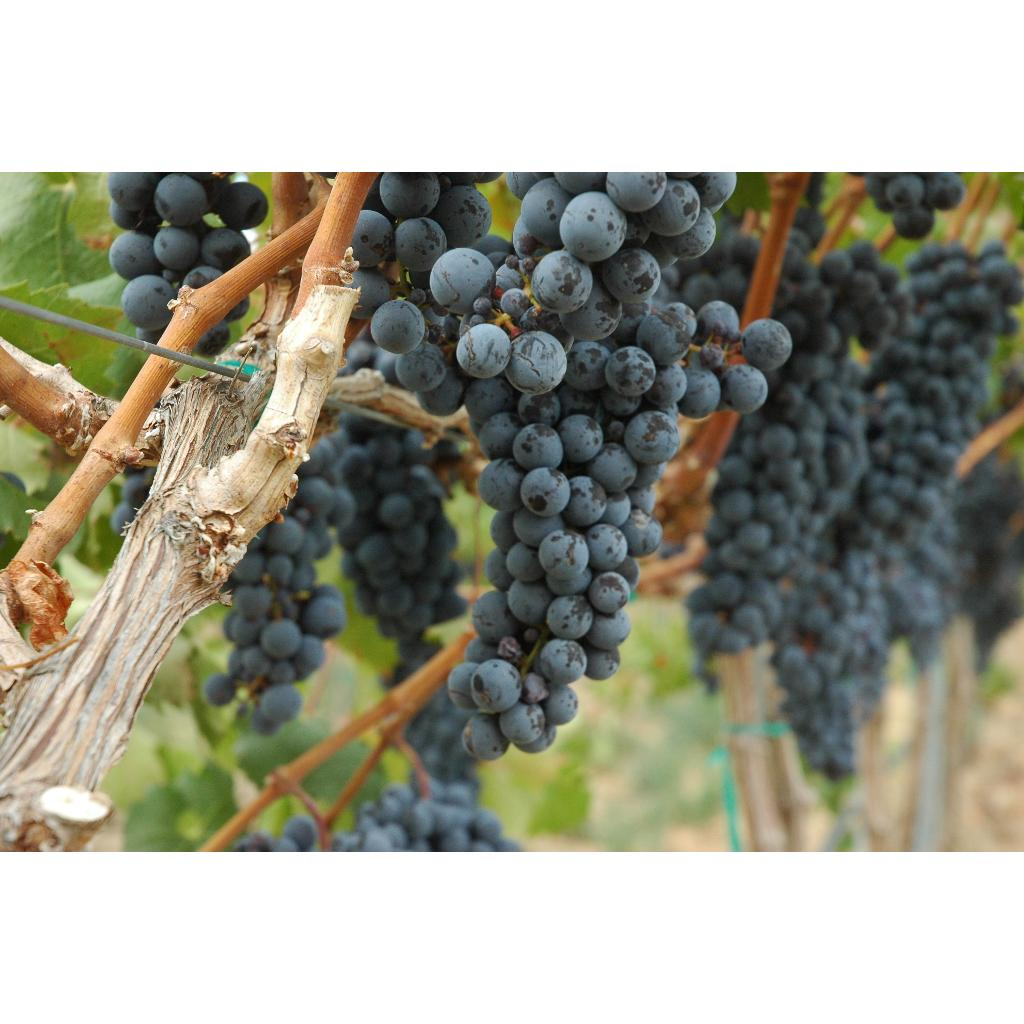grape: (297, 172, 1023, 774), (348, 172, 790, 759), (687, 211, 1023, 778), (334, 419, 462, 660), (203, 524, 343, 734), (107, 172, 268, 343), (340, 424, 457, 647), (108, 172, 262, 340), (865, 172, 964, 235)
